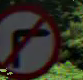Don't turn right: (2, 4, 59, 79)
